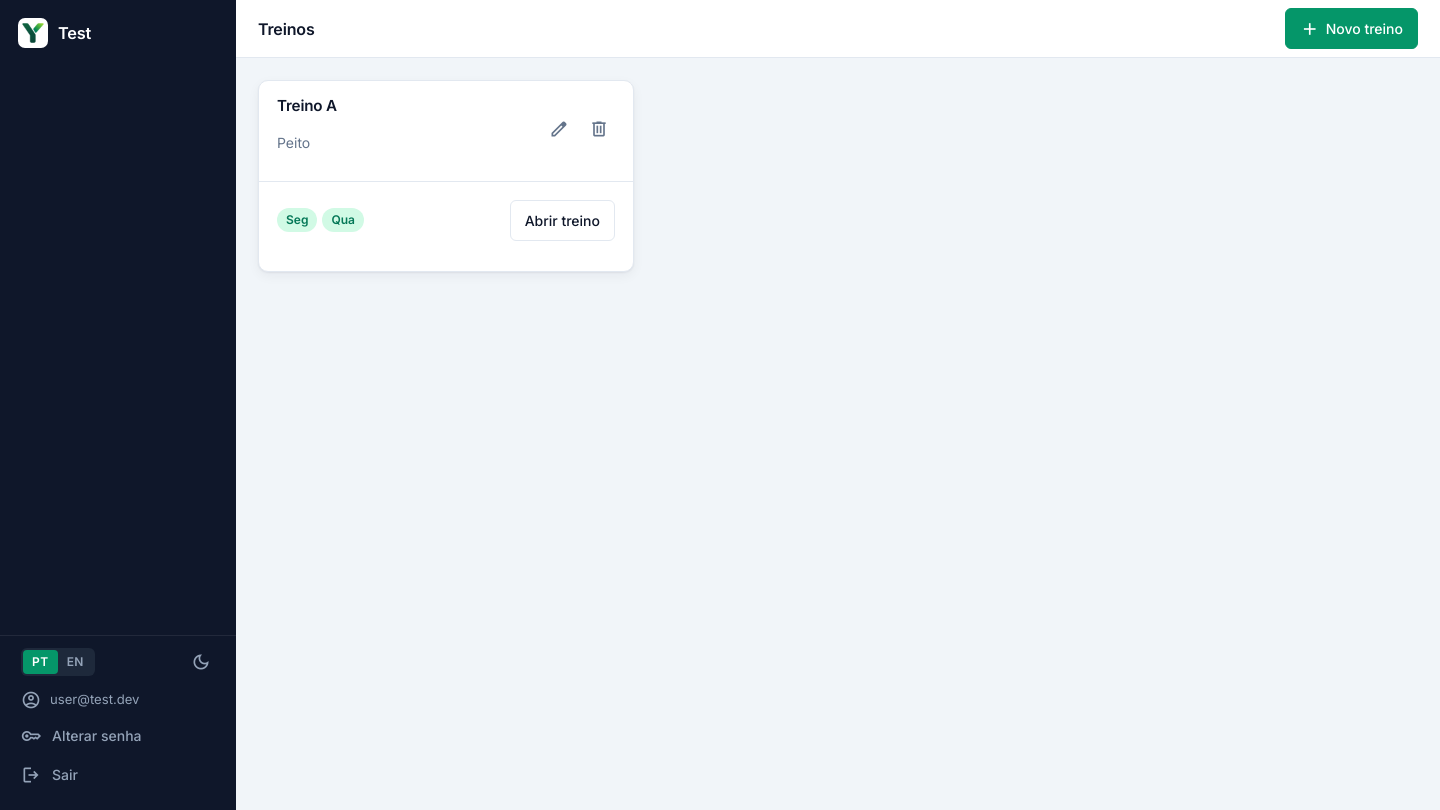
Test: Workouts › carrega treinos e exercicios, e renderiza dias, itens e foco
The width and height of the screenshot is (1440, 810).
Expected: the text "Supino" is not shown
Click the button "Abrir treino": coordinates (562, 220) [510, 200, 615, 241]
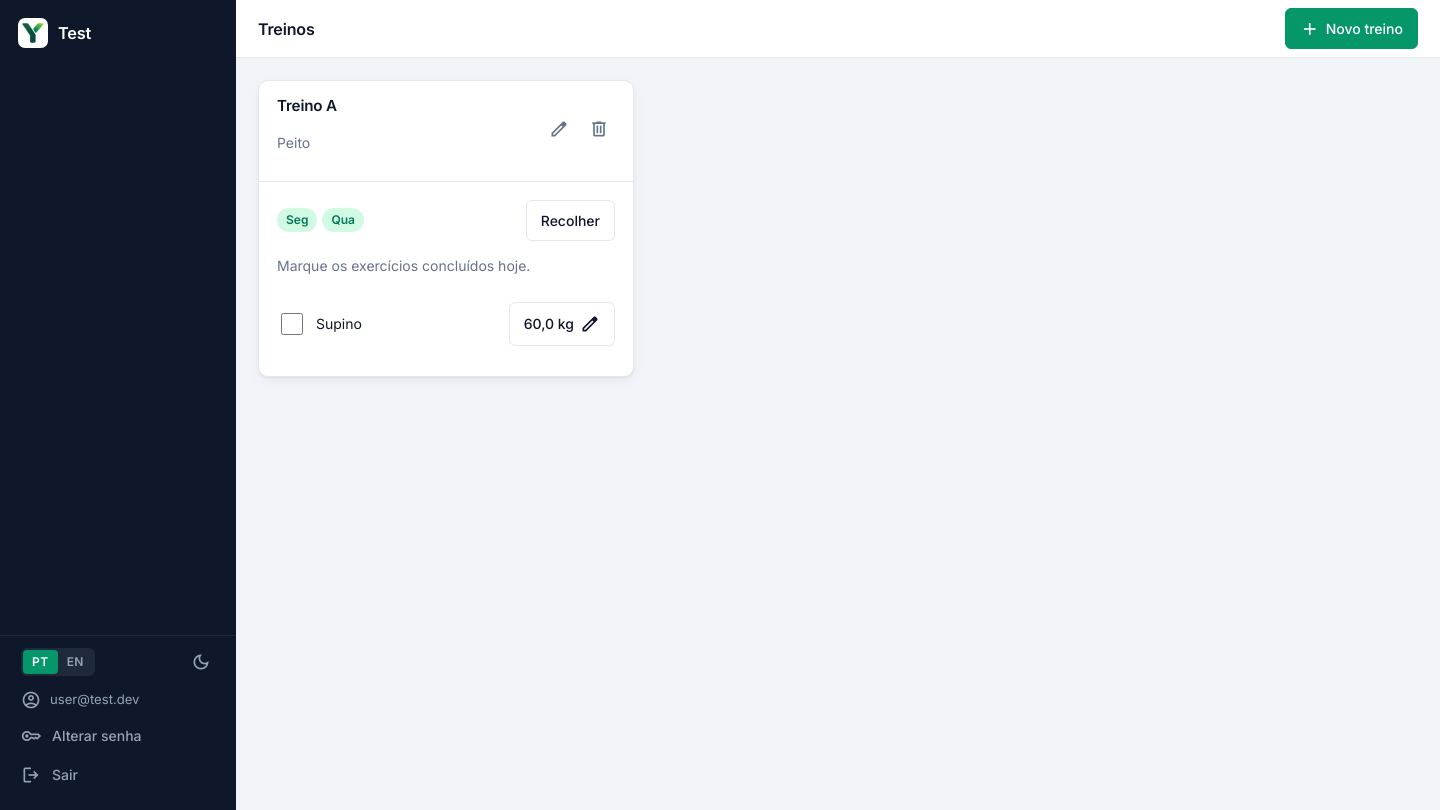
Result: the text "Supino" is shown at [316, 313, 362, 334]
